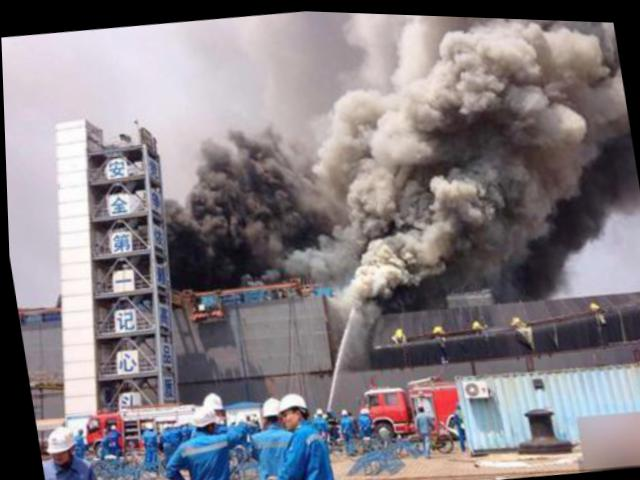smoke: (347, 81, 634, 224), (341, 10, 618, 112), (161, 125, 336, 286), (330, 195, 532, 288), (527, 195, 598, 263), (314, 113, 359, 205)
